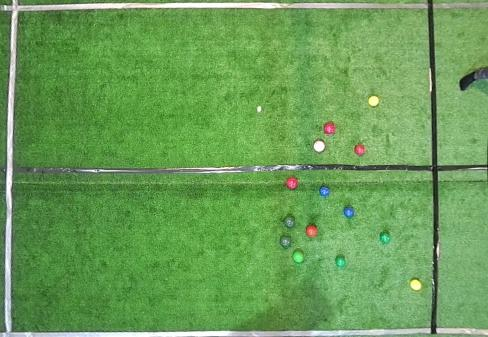blue: (343, 206, 354, 218), (319, 186, 330, 196)
green: (293, 251, 304, 263), (380, 232, 391, 244), (284, 217, 295, 228), (280, 236, 291, 247), (335, 256, 345, 267)
red: (305, 225, 318, 237), (313, 141, 326, 153), (286, 177, 298, 189), (354, 144, 365, 156), (324, 123, 335, 134)
vline: (427, 0, 487, 336), (0, 0, 19, 336)
white: (256, 106, 262, 112)
yellow: (410, 279, 422, 290), (368, 96, 379, 107)
